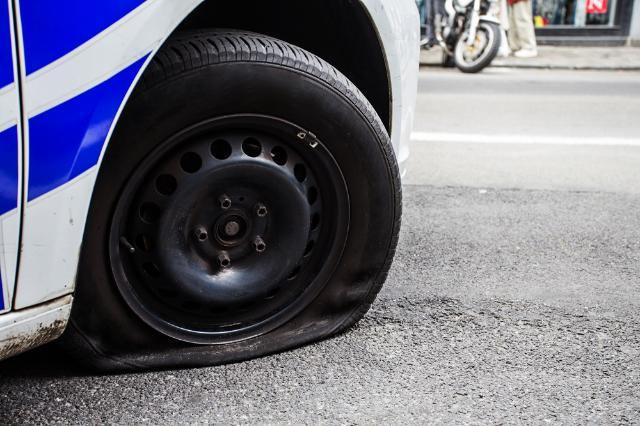tire flat: (78, 32, 409, 373)
